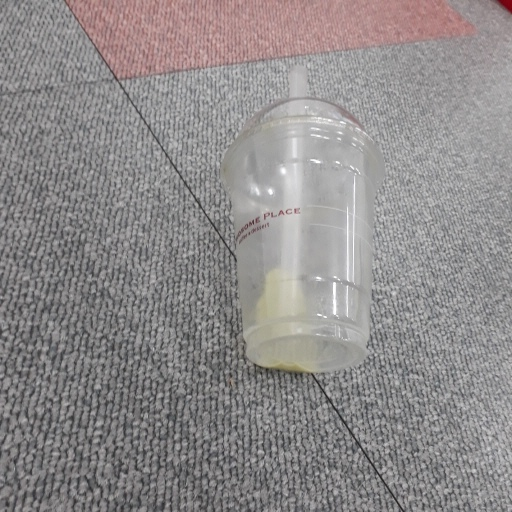Plastic_2: (223, 65, 378, 378)
